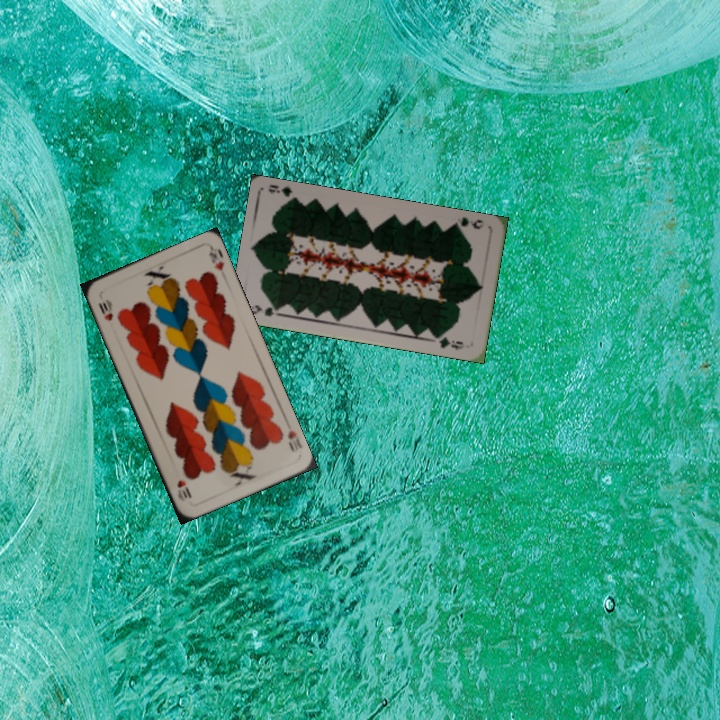G9: (449, 213, 486, 233), (247, 301, 283, 319)
H10: (94, 295, 116, 323), (284, 426, 304, 456)
